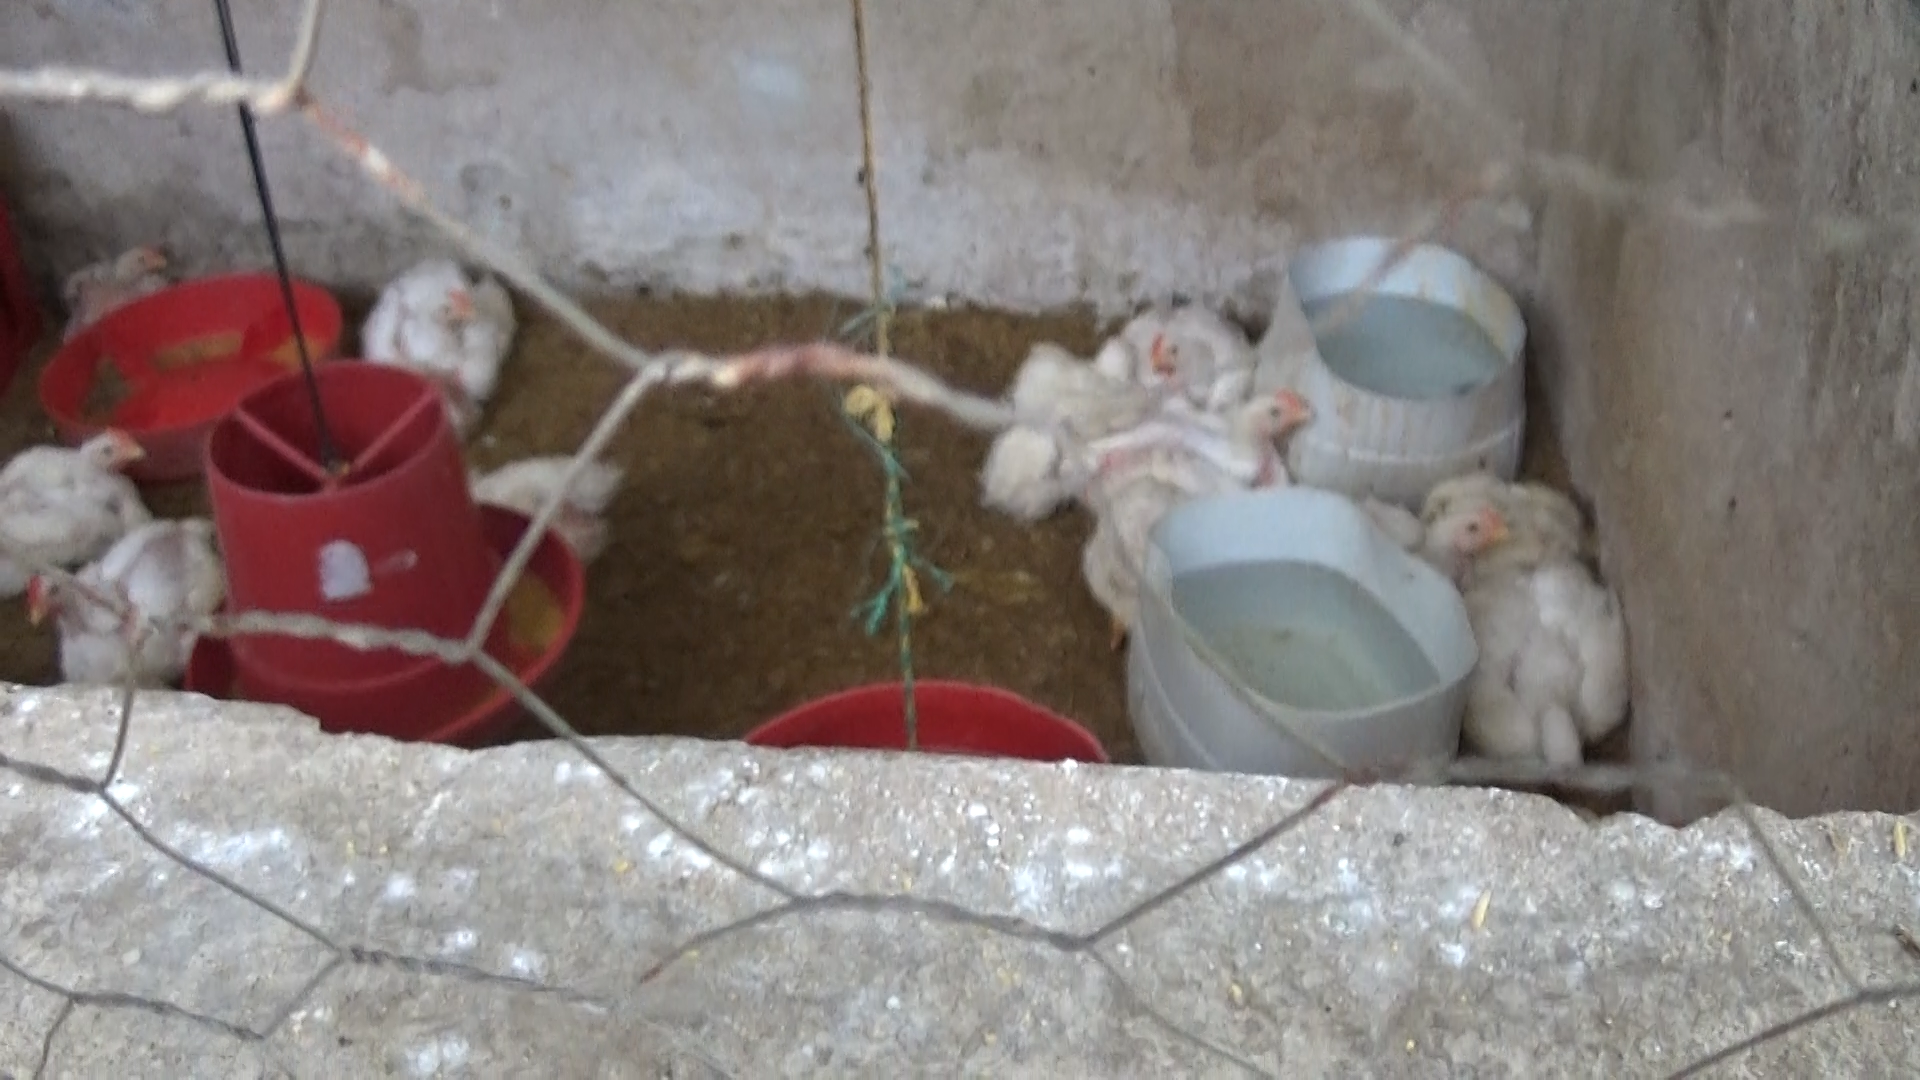Pollos: (1465, 547, 1648, 748), (28, 504, 214, 678), (1026, 392, 1331, 497), (0, 422, 154, 585), (353, 243, 526, 388), (467, 440, 615, 549), (1117, 318, 1237, 406), (1404, 497, 1516, 574)
